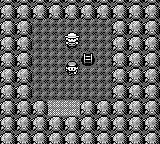captura: (32, 20, 112, 100)
main: (65, 62, 79, 75)
no-caminable: (0, 19, 159, 143), (1, 0, 160, 20)
npc: (65, 33, 80, 48)
puerta: (47, 101, 81, 116), (82, 52, 95, 65)
